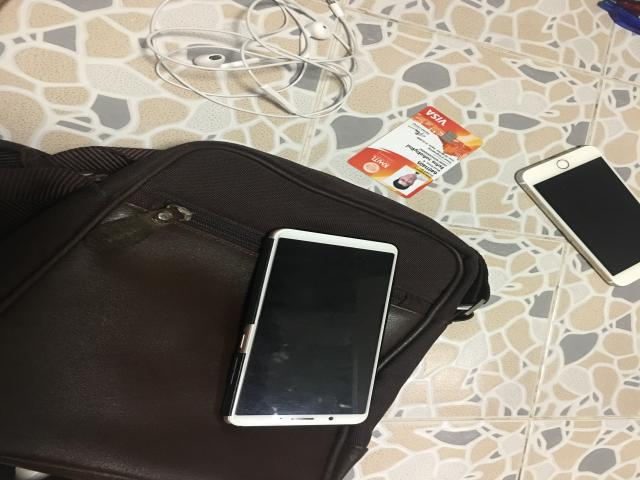Mobile phone: (223, 229, 398, 426), (515, 145, 640, 286)
Pen: (597, 0, 640, 35)
wire: (145, 0, 358, 118)
